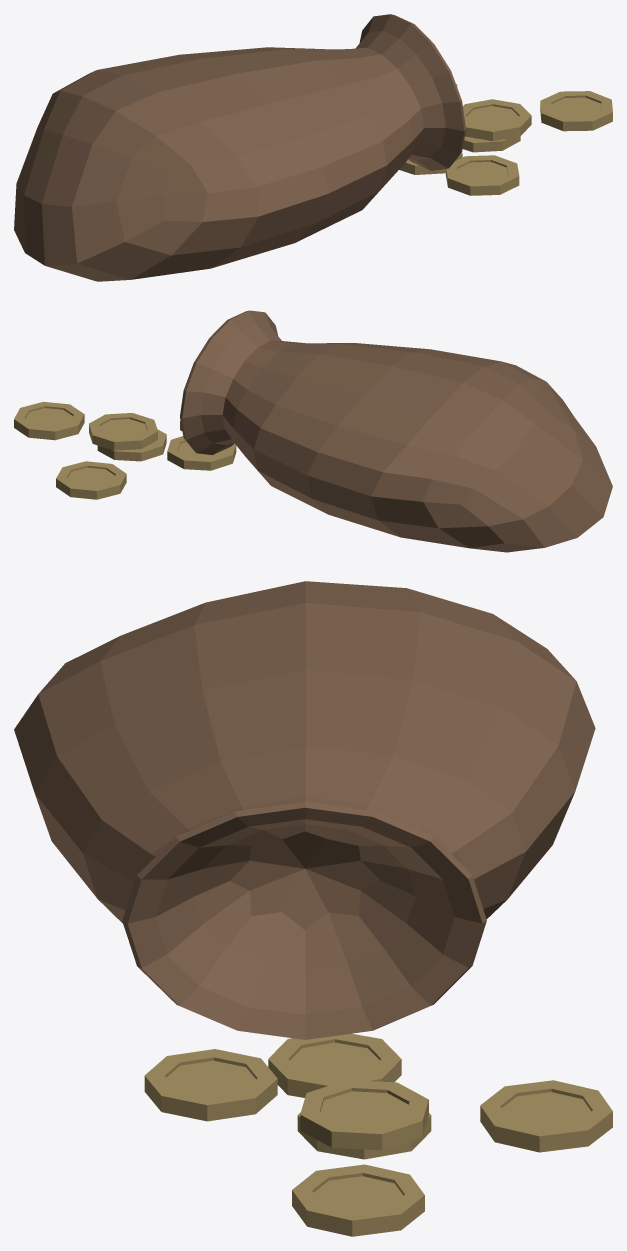
File: Dungeon_Bag_Coins.glb
3 renders of one model, top to bottom at view 1: azimuth 30°, elevation 25°; view 2: azimuth 150°, elevation 25°; view 3: azimuth 270°, elevation 25°, orthographic. The views are drawn at different scales.
Parts seen in each view (by area): view 1: Bag_Coins; view 2: Bag_Coins; view 3: Bag_Coins.
Part boxes in pixels (bbox=[...]): Bag_Coins: bbox=[14, 14, 612, 281]; Bag_Coins: bbox=[14, 310, 612, 552]; Bag_Coins: bbox=[14, 581, 612, 1236].
Bounding box in the file's own units: 0.442 × 0.1146 × 0.2222.
